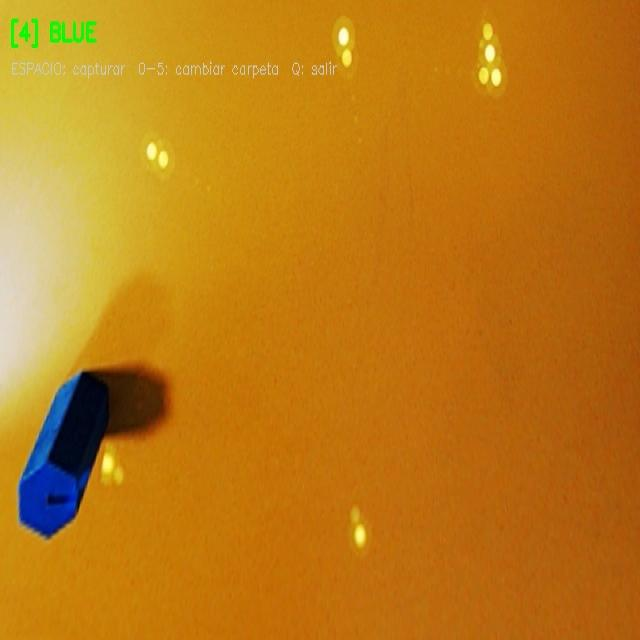blue: (18, 371, 108, 539)
